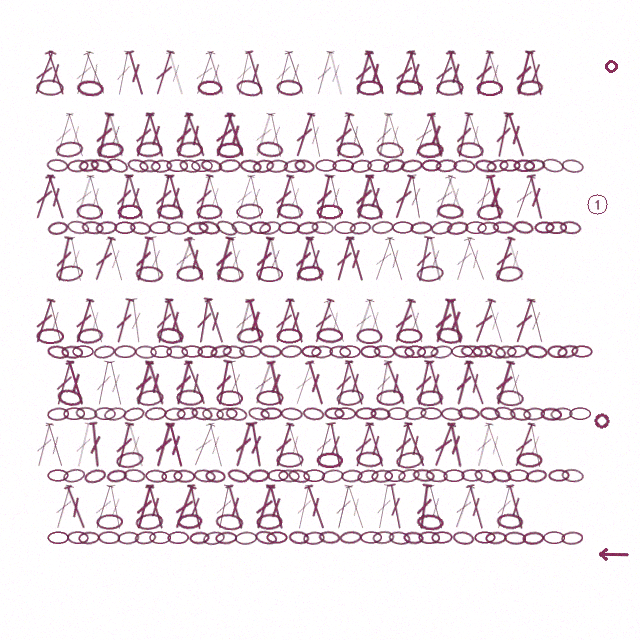chain: (115, 450, 145, 470), (395, 450, 425, 470), (56, 387, 84, 408), (235, 78, 264, 98), (55, 140, 84, 159), (55, 264, 84, 283), (435, 326, 464, 345), (135, 512, 164, 531), (256, 140, 284, 159), (276, 202, 304, 221), (356, 202, 384, 221), (416, 264, 444, 283), (156, 326, 184, 345), (236, 326, 264, 345), (336, 388, 364, 407), (135, 265, 164, 283), (495, 265, 524, 283), (215, 513, 244, 531), (76, 79, 104, 97), (516, 79, 544, 97), (96, 141, 124, 159), (336, 141, 364, 159), (376, 141, 404, 159), (416, 141, 444, 159), (456, 141, 484, 159), (156, 203, 184, 221), (476, 203, 504, 221), (216, 265, 244, 283), (76, 327, 104, 345), (136, 389, 164, 407), (416, 389, 444, 407), (496, 389, 524, 407), (416, 513, 444, 531), (214, 218, 239, 238), (36, 79, 64, 96), (436, 79, 464, 96), (436, 203, 464, 220), (296, 265, 324, 282), (176, 389, 204, 406), (376, 389, 404, 406), (496, 513, 524, 530), (105, 156, 130, 175), (276, 79, 303, 96), (396, 79, 423, 96), (136, 141, 163, 158), (176, 141, 203, 158), (76, 203, 103, 220), (236, 203, 263, 220), (176, 265, 203, 282), (316, 327, 343, 344), (356, 451, 383, 468), (256, 513, 283, 530), (483, 342, 507, 361), (36, 328, 64, 344), (256, 390, 284, 406), (276, 452, 304, 468), (177, 513, 203, 530), (356, 80, 383, 96), (476, 80, 503, 96), (216, 142, 243, 158), (126, 157, 150, 175), (196, 204, 223, 220), (316, 204, 343, 220), (230, 219, 254, 237), (258, 219, 282, 237), (256, 266, 283, 282), (276, 328, 303, 344), (356, 328, 383, 344), (396, 328, 423, 344), (216, 390, 243, 406), (122, 405, 146, 423), (316, 452, 343, 468), (516, 452, 543, 468), (83, 467, 107, 485), (226, 467, 250, 485), (473, 467, 497, 485), (96, 514, 123, 530), (197, 80, 223, 96), (117, 204, 143, 220), (89, 157, 113, 174), (382, 157, 406, 174), (541, 157, 565, 174), (66, 219, 90, 236), (197, 219, 221, 236), (430, 219, 454, 236), (209, 343, 233, 360), (556, 343, 580, 360), (190, 405, 214, 422), (404, 405, 428, 422), (493, 405, 517, 422), (62, 467, 86, 484), (397, 467, 421, 484), (254, 529, 278, 546), (512, 219, 535, 236), (178, 158, 202, 174), (46, 344, 70, 360), (103, 406, 127, 422), (247, 406, 271, 422), (287, 468, 311, 484), (356, 468, 380, 484), (202, 530, 226, 546), (200, 158, 223, 174), (239, 158, 262, 174), (252, 158, 275, 174), (283, 158, 306, 174), (293, 158, 316, 174), (350, 158, 373, 174), (400, 158, 423, 174), (474, 158, 497, 174), (486, 158, 509, 174), (561, 158, 584, 174), (129, 220, 152, 236), (296, 220, 319, 236), (349, 220, 372, 236), (446, 220, 469, 236), (93, 344, 116, 360), (392, 344, 415, 360), (430, 344, 453, 360), (225, 406, 248, 422), (302, 406, 325, 422), (509, 406, 532, 422), (193, 468, 216, 484), (321, 468, 344, 484), (490, 468, 513, 484), (525, 468, 548, 484), (388, 530, 411, 546), (452, 530, 475, 546), (47, 220, 69, 236), (106, 468, 128, 484), (46, 158, 69, 173), (218, 158, 241, 173), (435, 158, 458, 173), (523, 158, 546, 173), (81, 220, 104, 235), (95, 220, 118, 235), (311, 220, 334, 235), (371, 220, 394, 235), (492, 220, 515, 235), (559, 220, 582, 235), (259, 344, 282, 359), (280, 344, 303, 359), (373, 344, 396, 359), (460, 344, 483, 359), (506, 344, 529, 359), (525, 344, 548, 359), (75, 406, 98, 421), (144, 406, 167, 421), (176, 406, 199, 421), (457, 406, 480, 421), (123, 468, 146, 483), (247, 468, 270, 483), (412, 468, 435, 483), (425, 468, 448, 483), (561, 468, 584, 483), (134, 530, 157, 545), (318, 530, 341, 545), (339, 530, 362, 545), (372, 530, 395, 545), (78, 158, 100, 173), (479, 406, 501, 421), (288, 530, 310, 545), (150, 159, 173, 173), (186, 221, 209, 235), (222, 345, 245, 359), (416, 345, 439, 359), (280, 407, 303, 421), (550, 407, 573, 421), (117, 531, 140, 545), (67, 159, 89, 173), (139, 159, 161, 173), (266, 159, 288, 173), (453, 159, 475, 173), (167, 221, 189, 235), (410, 221, 432, 235), (477, 221, 499, 235), (61, 345, 83, 359), (135, 345, 157, 359), (166, 345, 188, 359), (311, 345, 333, 359), (329, 345, 351, 359), (495, 345, 517, 359), (47, 407, 69, 421), (164, 407, 186, 421), (202, 407, 224, 421), (216, 407, 238, 421), (441, 407, 463, 421), (523, 407, 545, 421), (540, 407, 562, 421), (145, 469, 167, 483), (161, 469, 183, 483), (173, 469, 195, 483), (278, 469, 300, 483), (341, 469, 363, 483), (371, 469, 393, 483), (78, 531, 100, 545), (215, 531, 237, 545), (235, 531, 257, 545), (303, 531, 325, 545), (485, 531, 507, 545), (504, 531, 526, 545), (522, 531, 544, 545), (561, 531, 583, 545), (370, 407, 391, 421), (205, 469, 226, 483), (189, 531, 210, 545), (403, 531, 424, 545), (166, 159, 188, 172), (191, 159, 213, 172), (315, 159, 337, 172), (332, 159, 354, 172), (367, 159, 389, 172), (499, 159, 521, 172), (513, 159, 535, 172), (114, 221, 136, 234), (149, 221, 171, 234), (249, 221, 271, 234), (278, 221, 300, 234), (334, 221, 356, 234), (392, 221, 414, 234), (465, 221, 487, 234), (545, 221, 567, 234), (72, 345, 94, 358), (114, 345, 136, 358), (150, 345, 172, 358), (181, 345, 203, 358), (239, 345, 261, 358), (339, 345, 361, 358), (404, 345, 426, 358), (451, 345, 473, 358), (571, 345, 593, 358), (63, 407, 85, 420), (94, 407, 116, 420), (260, 407, 282, 420), (334, 407, 356, 420), (355, 407, 377, 420), (387, 407, 409, 420), (420, 407, 442, 420), (569, 407, 591, 420), (47, 469, 69, 482), (267, 469, 289, 482), (303, 469, 325, 482), (384, 469, 406, 482), (443, 469, 465, 482), (461, 469, 483, 482), (507, 469, 529, 482), (548, 469, 570, 482), (47, 531, 69, 544), (67, 531, 89, 544), (98, 531, 120, 544), (149, 531, 171, 544), (167, 531, 189, 544), (266, 531, 288, 544), (360, 531, 382, 544), (418, 531, 440, 544), (431, 531, 453, 544), (474, 531, 496, 544), (543, 531, 565, 544), (421, 159, 442, 172), (534, 221, 555, 234), (197, 345, 218, 358), (301, 345, 322, 358), (360, 345, 381, 358), (472, 345, 493, 358), (547, 345, 568, 358), (324, 407, 345, 420)
double: (80, 49, 111, 97), (408, 111, 439, 159), (460, 235, 491, 283), (320, 297, 351, 345), (188, 421, 219, 469), (400, 421, 431, 469), (428, 421, 459, 469), (29, 49, 59, 97), (189, 49, 219, 97), (389, 49, 419, 97), (429, 49, 459, 97), (181, 111, 211, 159), (341, 111, 371, 159), (429, 173, 459, 221), (441, 173, 471, 221), (509, 173, 539, 221), (89, 235, 119, 283), (169, 235, 199, 283), (389, 297, 419, 345), (469, 297, 499, 345), (181, 359, 211, 407), (381, 359, 411, 407), (509, 421, 539, 469), (61, 483, 91, 531), (169, 483, 199, 531), (301, 483, 331, 531), (281, 49, 310, 97), (361, 49, 390, 97), (221, 111, 250, 159), (249, 111, 278, 159), (389, 173, 418, 221), (181, 235, 210, 283), (369, 235, 398, 283), (501, 235, 530, 283), (201, 297, 230, 345), (309, 297, 338, 345), (349, 297, 378, 345), (249, 359, 278, 407), (461, 359, 490, 407), (481, 421, 510, 469), (449, 483, 478, 531), (42, 49, 70, 97), (122, 49, 150, 97), (150, 49, 178, 97), (162, 49, 190, 97), (202, 49, 230, 97), (62, 111, 90, 159), (102, 111, 130, 159), (142, 111, 170, 159), (210, 111, 238, 159), (290, 111, 318, 159), (462, 111, 490, 159), (502, 111, 530, 159), (30, 173, 58, 221), (42, 173, 70, 221), (70, 173, 98, 221), (122, 173, 150, 221), (230, 173, 258, 221), (342, 235, 370, 283), (450, 235, 478, 283), (490, 235, 518, 283), (30, 297, 58, 345), (270, 297, 298, 345), (510, 297, 538, 345), (62, 359, 90, 407), (142, 359, 170, 407), (290, 359, 318, 407), (490, 359, 518, 407), (122, 421, 150, 469), (362, 421, 390, 469), (250, 483, 278, 531), (342, 483, 370, 531), (70, 49, 97, 97), (242, 49, 269, 97), (350, 49, 377, 97), (482, 49, 509, 97), (50, 111, 77, 159), (130, 111, 157, 159), (330, 111, 357, 159), (382, 111, 409, 159), (202, 173, 229, 221), (270, 173, 297, 221), (362, 173, 389, 221), (102, 235, 129, 283), (290, 235, 317, 283), (382, 235, 409, 283), (70, 297, 97, 345), (82, 297, 109, 345), (162, 297, 189, 345), (242, 297, 269, 345), (282, 297, 309, 345), (362, 297, 389, 345), (402, 297, 429, 345), (430, 297, 457, 345), (482, 297, 509, 345), (130, 359, 157, 407), (302, 359, 329, 407), (342, 359, 369, 407), (42, 421, 69, 469), (150, 421, 177, 469), (202, 421, 229, 469), (230, 421, 257, 469), (270, 421, 297, 469), (282, 421, 309, 469), (310, 421, 337, 469), (350, 421, 377, 469), (50, 483, 77, 531), (90, 483, 117, 531), (142, 483, 169, 531), (222, 483, 249, 531), (311, 49, 337, 97), (323, 49, 349, 97), (443, 49, 469, 97), (471, 49, 497, 97), (91, 111, 117, 159), (171, 111, 197, 159), (423, 111, 449, 159), (83, 173, 109, 221), (163, 173, 189, 221), (191, 173, 217, 221), (351, 173, 377, 221), (471, 173, 497, 221), (523, 173, 549, 221), (211, 235, 237, 283), (251, 235, 277, 283), (303, 235, 329, 283), (331, 235, 357, 283), (111, 297, 137, 345), (231, 297, 257, 345), (523, 297, 549, 345), (51, 359, 77, 407), (423, 359, 449, 407), (451, 359, 477, 407), (31, 421, 57, 469), (111, 421, 137, 469), (163, 421, 189, 469), (471, 421, 497, 469), (131, 483, 157, 531), (263, 483, 289, 531), (423, 483, 449, 531), (463, 483, 489, 531), (491, 483, 517, 531), (503, 483, 529, 531), (271, 49, 296, 97), (403, 49, 428, 97), (511, 49, 536, 97), (151, 173, 176, 221), (283, 173, 308, 221), (483, 173, 508, 221), (131, 235, 156, 283), (263, 235, 288, 283), (423, 235, 448, 283), (43, 297, 68, 345), (171, 359, 196, 407), (223, 359, 248, 407), (331, 359, 356, 407), (411, 359, 436, 407), (503, 359, 528, 407), (71, 421, 96, 469), (391, 421, 416, 469), (211, 483, 236, 531), (331, 483, 356, 531), (232, 49, 256, 97), (524, 49, 548, 97), (264, 111, 288, 159), (372, 111, 396, 159), (452, 111, 476, 159), (112, 173, 136, 221), (244, 173, 268, 221), (312, 173, 336, 221), (324, 173, 348, 221), (52, 235, 76, 283), (64, 235, 88, 283), (224, 235, 248, 283), (412, 235, 436, 283), (152, 297, 176, 345), (444, 297, 468, 345), (104, 359, 128, 407), (264, 359, 288, 407), (444, 421, 468, 469), (292, 483, 316, 531), (112, 49, 135, 97), (304, 111, 327, 159), (492, 111, 515, 159), (92, 359, 115, 407), (324, 421, 347, 469), (524, 421, 547, 469), (104, 483, 127, 531), (184, 483, 207, 531), (212, 359, 235, 406), (372, 359, 395, 406), (372, 483, 395, 530), (384, 483, 407, 530), (405, 173, 427, 220), (145, 235, 167, 282), (193, 297, 215, 344), (245, 421, 267, 468), (413, 483, 435, 530), (126, 297, 146, 344), (86, 421, 105, 468)
noise: (585, 192, 610, 217), (591, 410, 612, 431), (596, 548, 629, 561), (603, 58, 619, 74)
